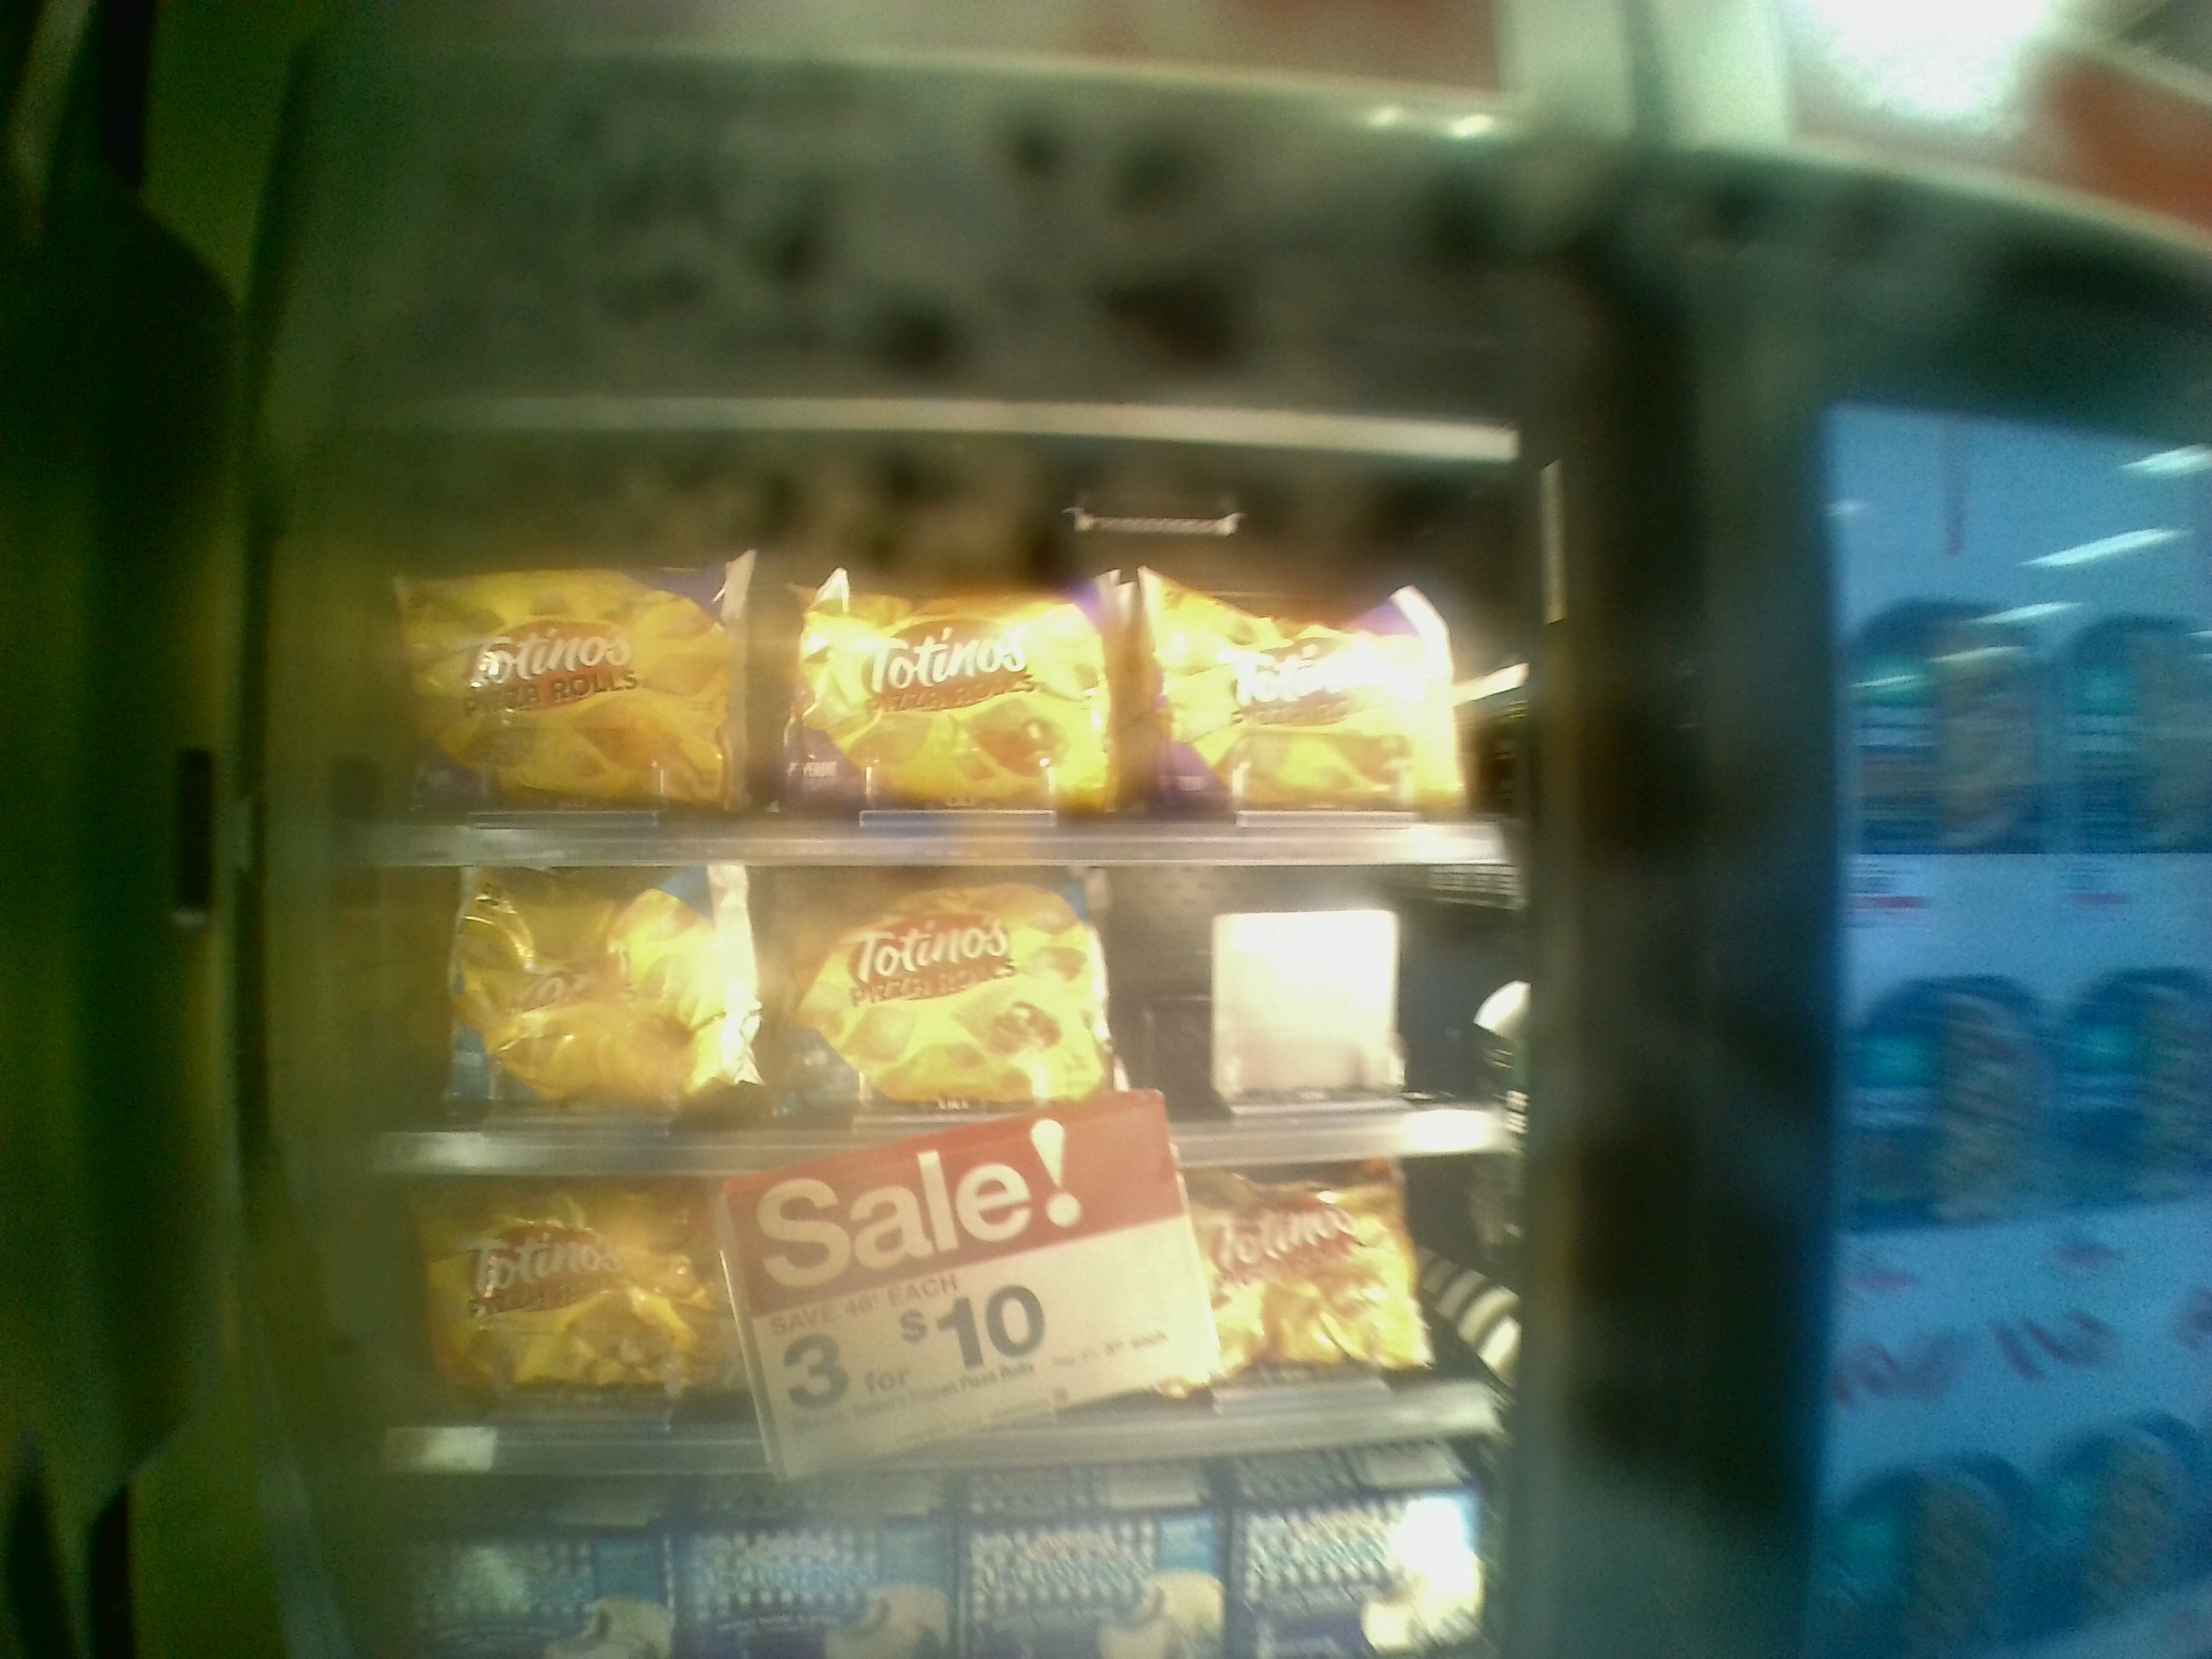shelf: (341, 427, 1524, 870), (333, 866, 1527, 1164), (324, 1175, 1498, 1464)
